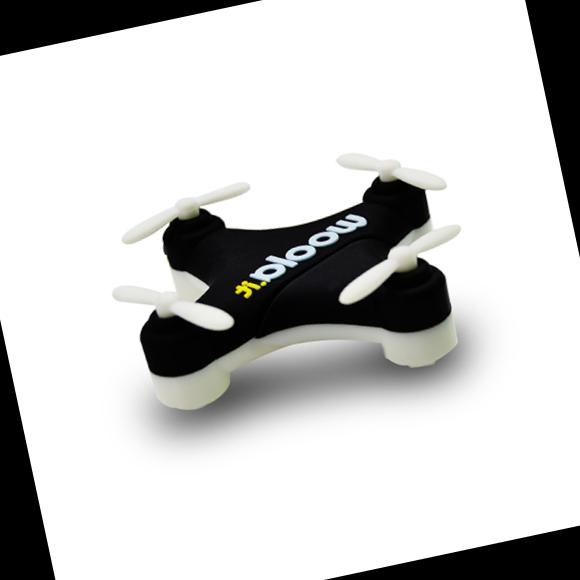drone: (63, 122, 511, 434)
